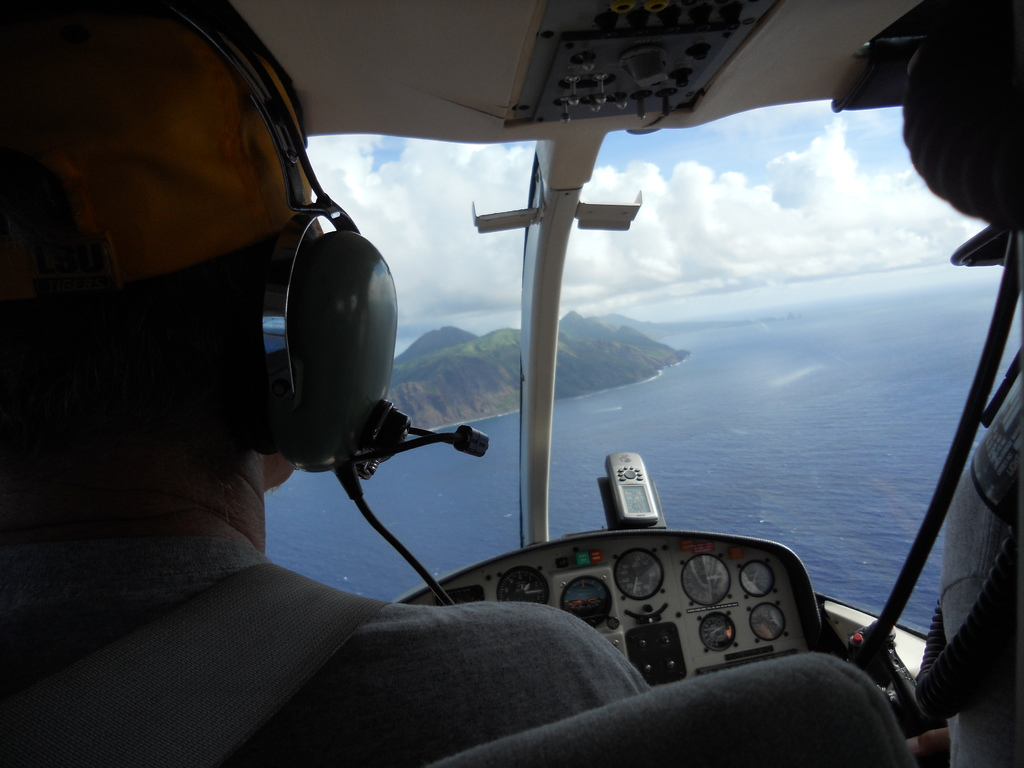Person: (0, 0, 652, 768), (905, 0, 1024, 767)
